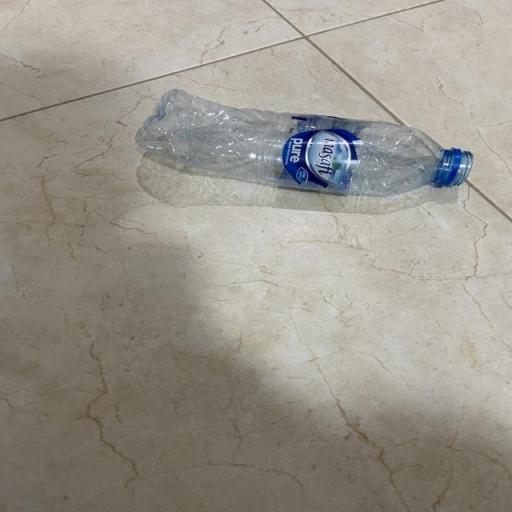plastic: (132, 84, 475, 210)
